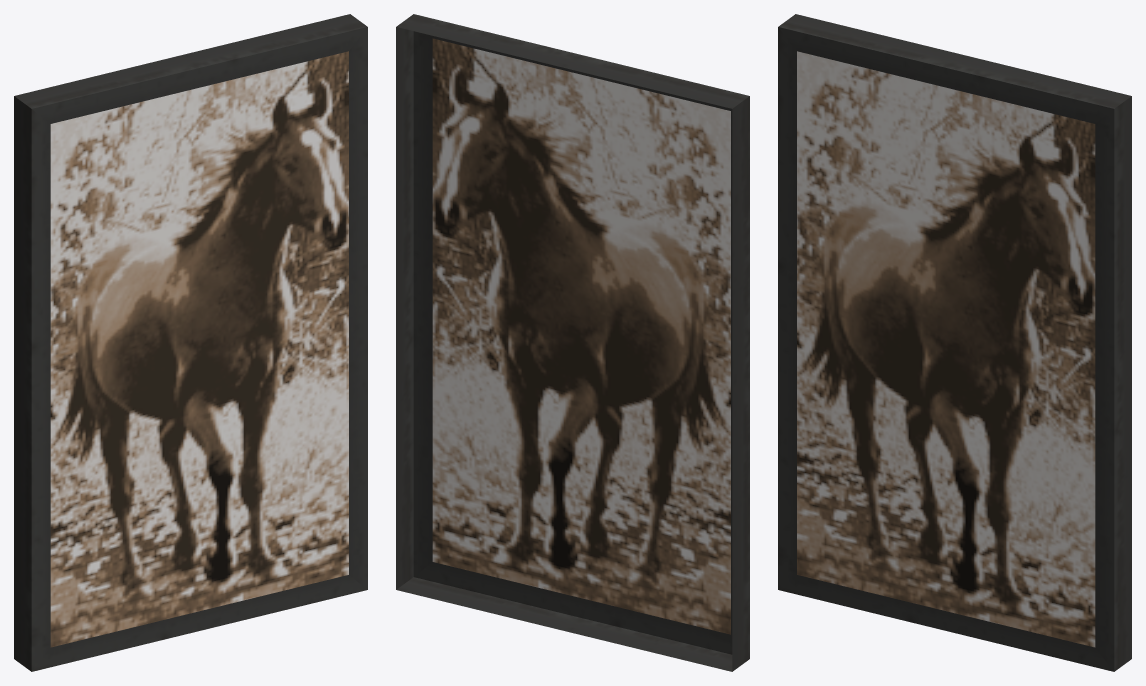
File: paint_8.fbx
The picture shows the model from 3 angles, left to right: view 1: azimuth 30°, elevation 25°; view 2: azimuth 150°, elevation 25°; view 3: azimuth 330°, elevation 25°; orthographic projection.
Visible parts, largest first — view 1: pCube8; view 2: pCube8; view 3: pCube8.
Boxes of the visible parts, x1,y1,x2,y2 form: pCube8: (14,14,367,671); pCube8: (396,14,749,671); pCube8: (778,14,1131,671).
Bounding box in the file's own units: 54.3 × 86.91 × 4.93.
